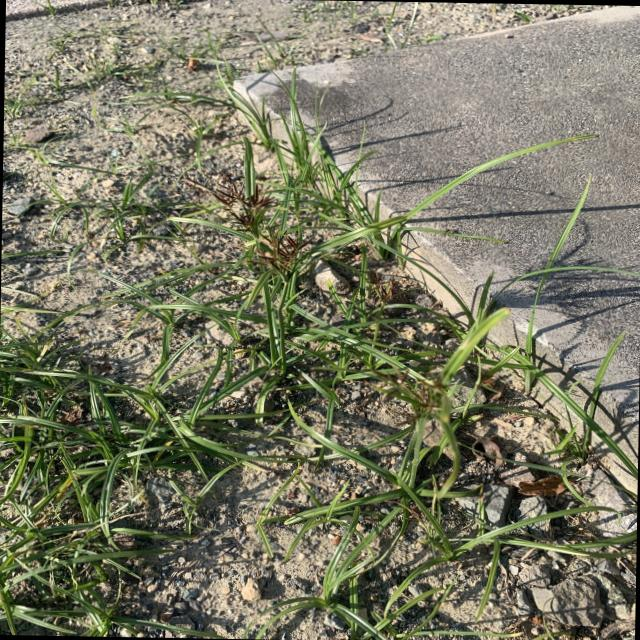cyperus: (207, 172, 316, 276), (373, 362, 457, 429), (202, 169, 281, 231)
